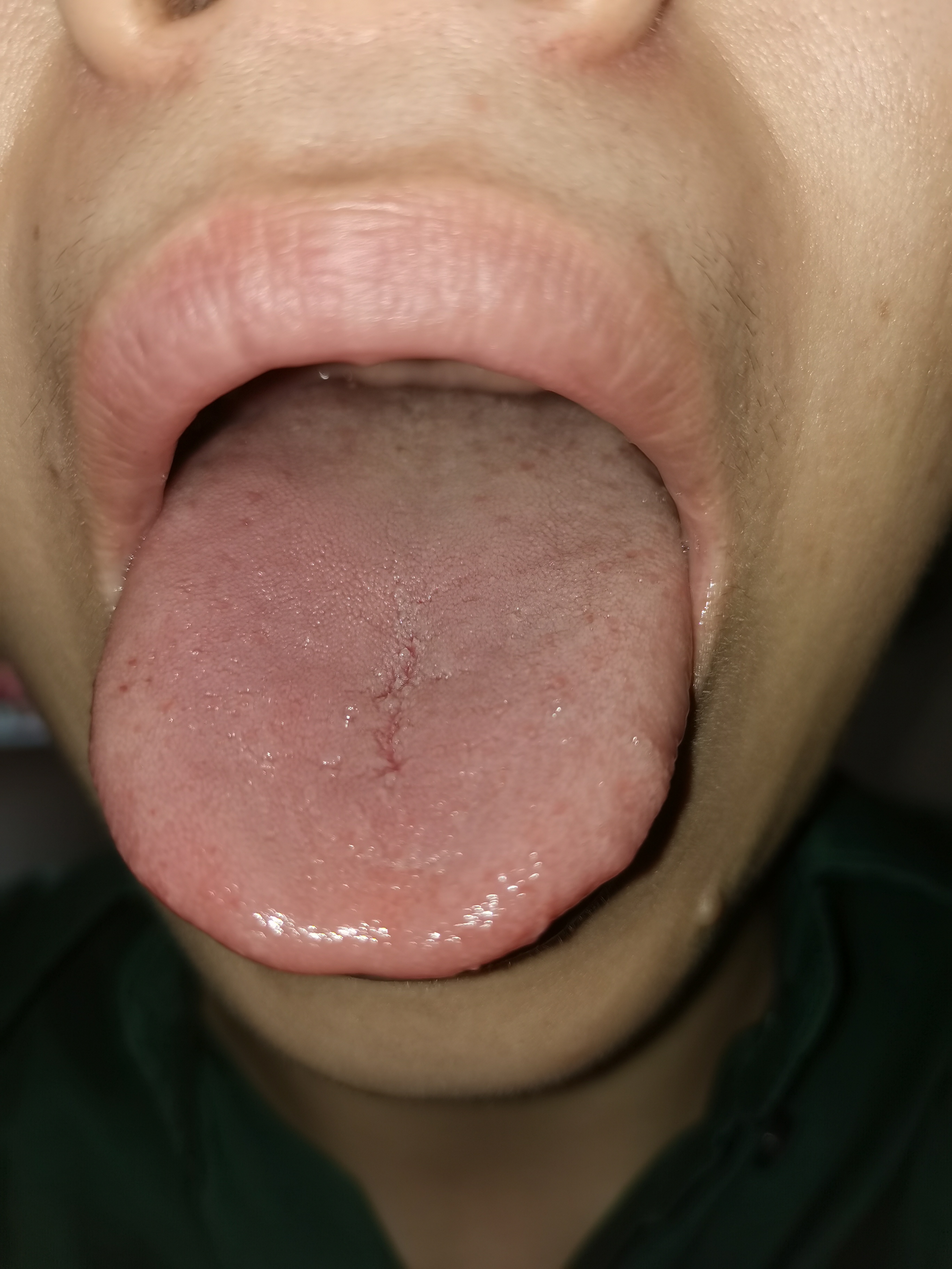baitaishe: (88, 378, 691, 981)
hongdianshe: (109, 677, 133, 700)
liewenshe: (366, 634, 420, 776)
